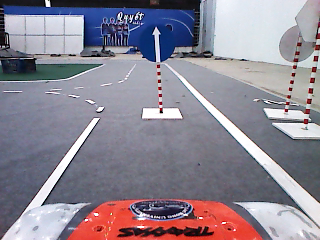straight: (137, 22, 177, 64)
